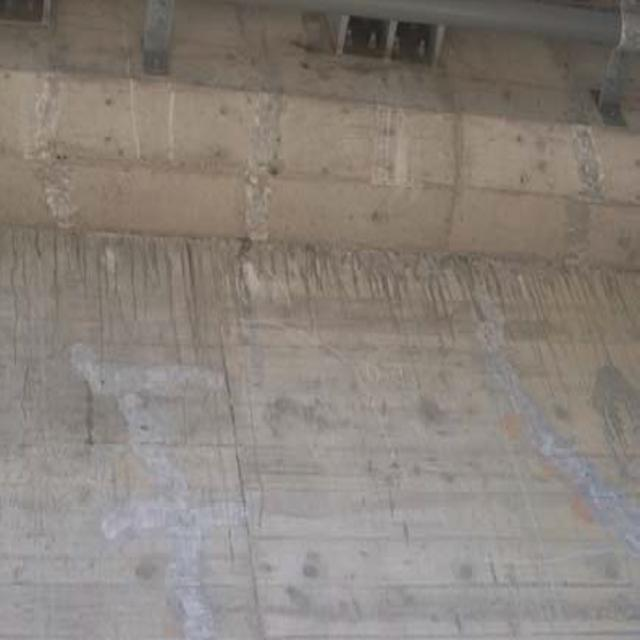freelime: (82, 356, 257, 631), (485, 312, 640, 552), (236, 44, 293, 263)
